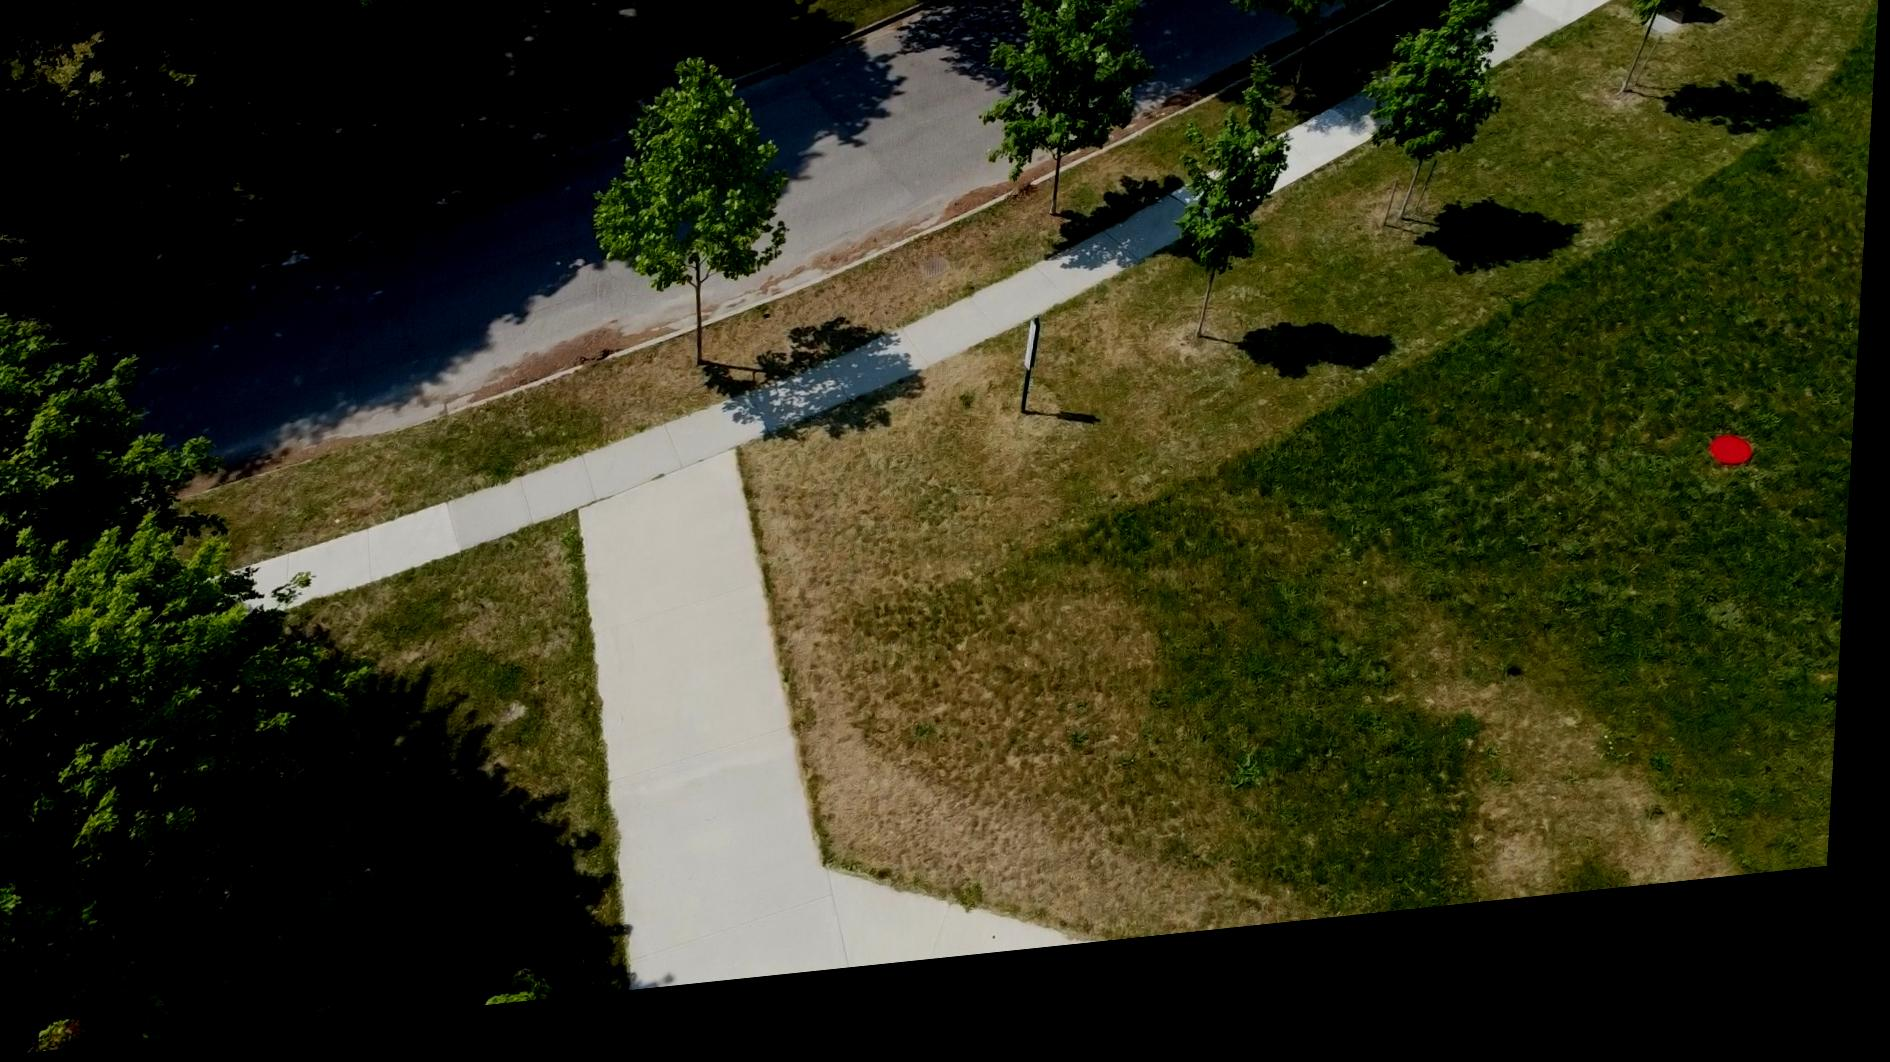Red: (1716, 470, 1763, 508)
